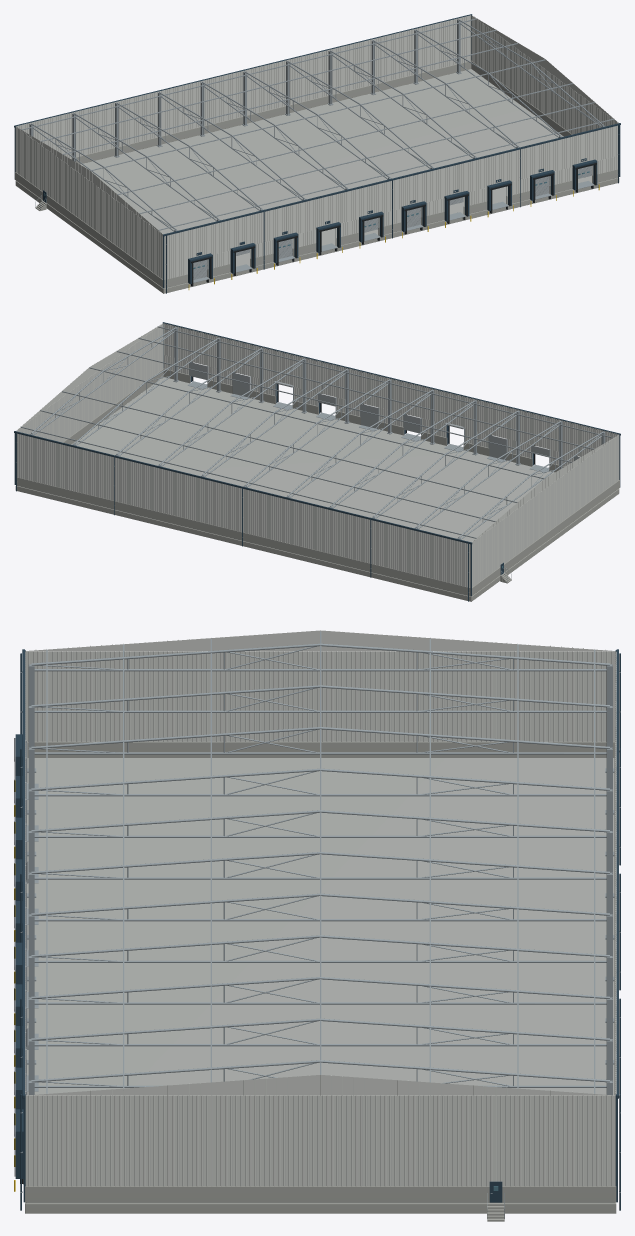
Rendered from SM_WarehouseShell.fbx.
3 renders of one model, top to bottom at view 1: azimuth 30°, elevation 25°; view 2: azimuth 150°, elevation 25°; view 3: azimuth 270°, elevation 25°, orthographic. The views are drawn at different scales.
Visible parts, largest first — view 1: SM_WarehouseShell; view 2: SM_WarehouseShell; view 3: SM_WarehouseShell.
Boxes of the visible parts, x1,y1,x2,y2 form: SM_WarehouseShell: (14,14,620,293); SM_WarehouseShell: (14,322,620,601); SM_WarehouseShell: (14,630,620,1221).
Bounding box in the file's own units: 9945 × 5542 × 1407.
